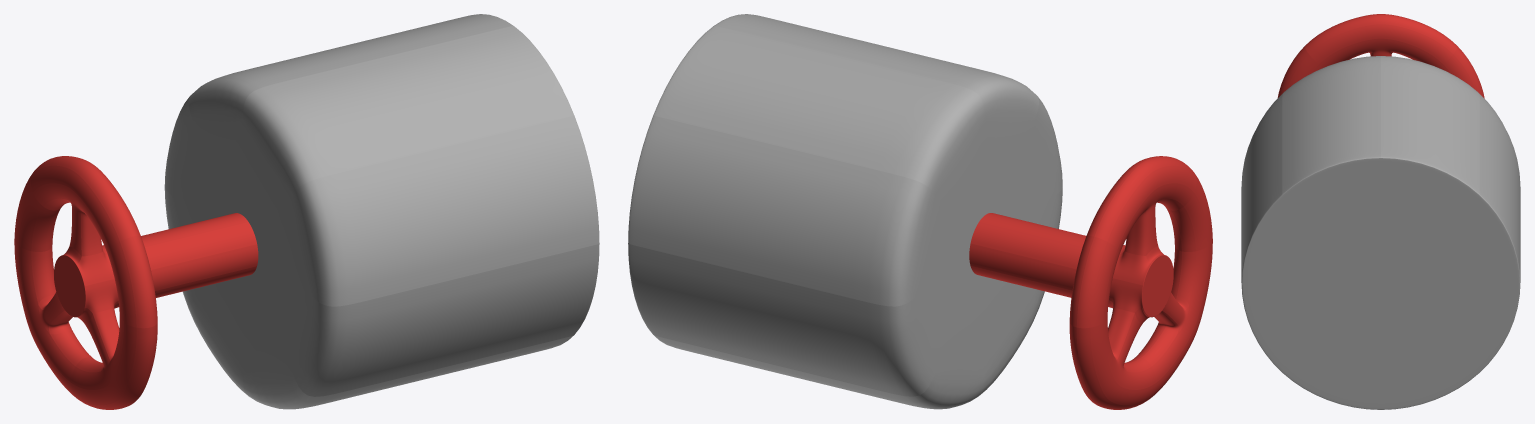
File: fullValve.fbx
3 views of the same model, side by side, from view 1: azimuth 30°, elevation 25°; view 2: azimuth 150°, elevation 25°; view 3: azimuth 270°, elevation 25° (orthographic). The views are drawn at different scales.
Visible parts, largest first — view 1: valve_connector, valve; view 2: valve_connector, valve; view 3: valve_connector, valve.
Boxes of the visible parts, bbox=[...] form: valve_connector: bbox=[164, 14, 599, 409]; valve: bbox=[14, 156, 258, 409]; valve_connector: bbox=[628, 14, 1062, 409]; valve: bbox=[969, 156, 1212, 409]; valve_connector: bbox=[1241, 56, 1520, 409]; valve: bbox=[1277, 14, 1484, 98].
Bounding box in the file's own units: 1.31 × 0.8781 × 0.8781.
